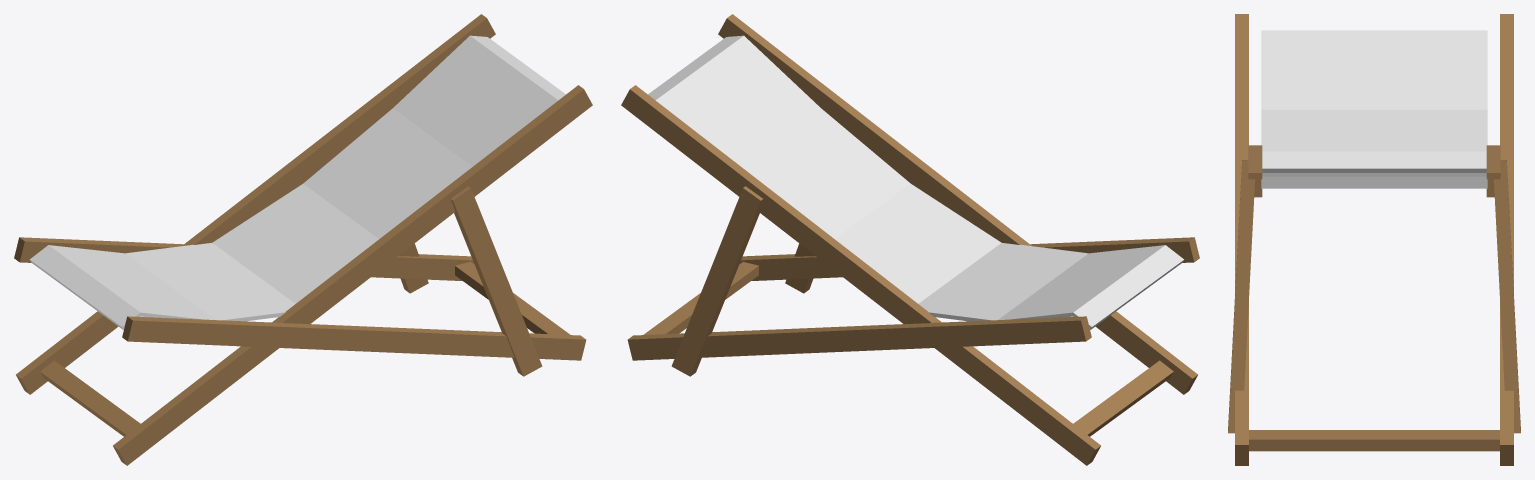
Rendered from lounger01.fbx.
3 renders of one model, left to right at view 1: azimuth 30°, elevation 25°; view 2: azimuth 150°, elevation 25°; view 3: azimuth 270°, elevation 25°, orthographic. The views are drawn at different scales.
Parts seen in each view (by area): view 1: lounger_01; view 2: lounger_01; view 3: lounger_01.
Boxes of the visible parts, x1=… form: lounger_01: x1=14, y1=14, x2=592, y2=465; lounger_01: x1=621, y1=14, x2=1199, y2=465; lounger_01: x1=1228, y1=14, x2=1520, y2=465.
Bounding box in the file's own units: 1.45 × 0.6318 × 0.7751.
